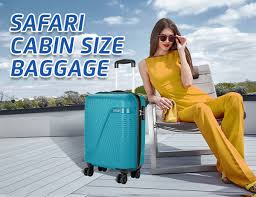suitcase: (77, 59, 148, 181)
